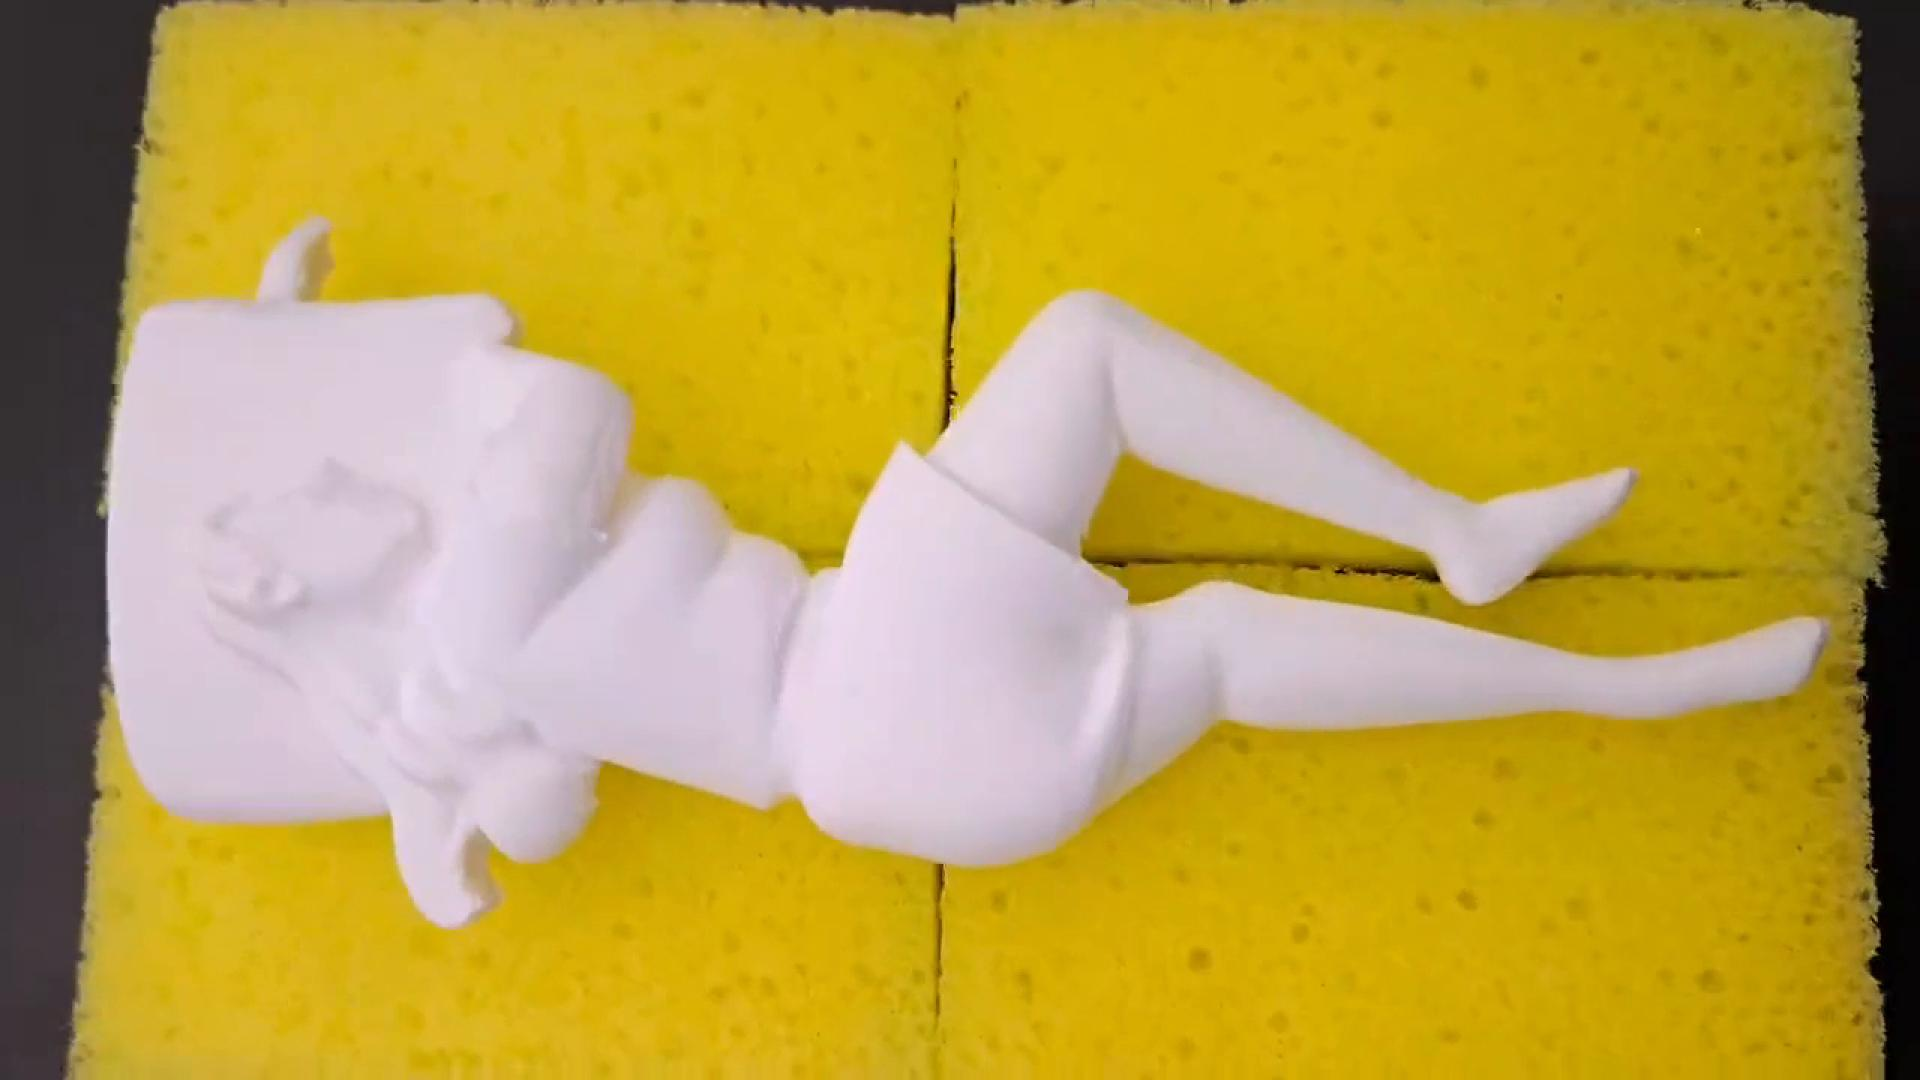Good-style: (105, 208, 1830, 942)
